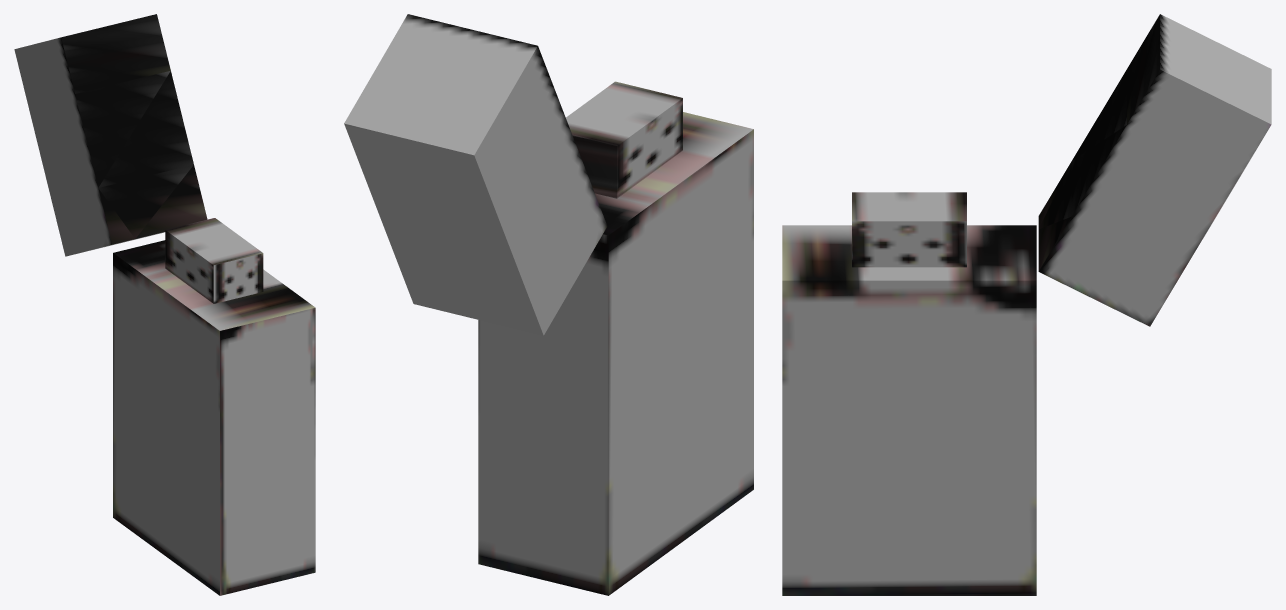
Rendered from Encendedor_Edit.fbx.
3 views of the same model, side by side, from view 1: azimuth 30°, elevation 25°; view 2: azimuth 150°, elevation 25°; view 3: azimuth 270°, elevation 25° (orthographic). The views are drawn at different scales.
Parts seen in each view (by area): view 1: Encendedor_Lighting; view 2: Encendedor_Lighting; view 3: Encendedor_Lighting.
Part boxes in pixels (box(x1,y1,x2,y2)): Encendedor_Lighting: box(14, 14, 315, 595); Encendedor_Lighting: box(344, 14, 753, 595); Encendedor_Lighting: box(782, 14, 1271, 595).
Size of the model in its own units: 1.49 by 6.59 by 5.55.
